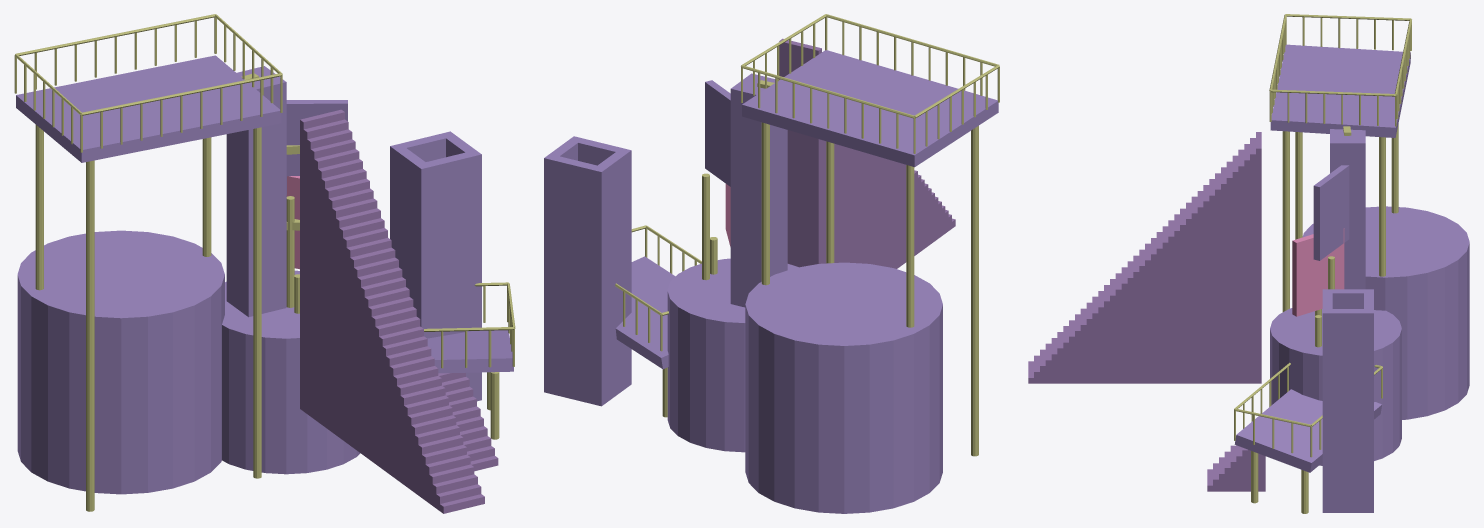
File: folie_tag_093.glb
3 views of the same model, side by side, from view 1: azimuth 30°, elevation 25°; view 2: azimuth 150°, elevation 25°; view 3: azimuth 270°, elevation 25° (orthographic). The views are drawn at different scales.
Parts seen in each view (by area): view 1: folie_tag_093_00_drum, folie_tag_093_stairs, folie_tag_093_line, folie_tag_093_04_tower, folie_tag_093_02_plate, folie_tag_093_01_drum, folie_tag_093_core, folie_tag_093_03_plate, folie_tag_093_05_panel, folie_tag_093_06_panel; view 2: folie_tag_093_00_drum, folie_tag_093_04_tower, folie_tag_093_stairs, folie_tag_093_02_plate, folie_tag_093_line, folie_tag_093_01_drum, folie_tag_093_core, folie_tag_093_03_plate, folie_tag_093_05_panel; view 3: folie_tag_093_stairs, folie_tag_093_00_drum, folie_tag_093_04_tower, folie_tag_093_02_plate, folie_tag_093_line, folie_tag_093_01_drum, folie_tag_093_03_plate, folie_tag_093_core, folie_tag_093_05_panel, folie_tag_093_06_panel.
Part boxes in pixels (box(x1,y1,x2,y2)): folie_tag_093_00_drum: box(17, 230, 224, 494); folie_tag_093_stairs: box(300, 109, 498, 513); folie_tag_093_line: box(14, 14, 515, 511); folie_tag_093_04_tower: box(390, 131, 481, 401); folie_tag_093_02_plate: box(16, 55, 281, 162); folie_tag_093_01_drum: box(222, 270, 360, 474); folie_tag_093_core: box(226, 66, 286, 317); folie_tag_093_03_plate: box(427, 330, 513, 373); folie_tag_093_05_panel: box(286, 100, 347, 194); folie_tag_093_06_panel: box(286, 176, 299, 269); folie_tag_093_00_drum: box(745, 262, 942, 513); folie_tag_093_04_tower: box(544, 136, 631, 406); folie_tag_093_stairs: box(779, 38, 955, 268); folie_tag_093_02_plate: box(742, 50, 998, 167); folie_tag_093_line: box(615, 14, 999, 456); folie_tag_093_01_drum: box(667, 258, 798, 452); folie_tag_093_core: box(730, 73, 787, 307); folie_tag_093_03_plate: box(615, 256, 675, 369); folie_tag_093_05_panel: box(705, 80, 730, 186); folie_tag_093_stairs: box(1028, 132, 1265, 491); folie_tag_093_00_drum: box(1302, 206, 1469, 419); folie_tag_093_04_tower: box(1322, 289, 1373, 512); folie_tag_093_02_plate: box(1270, 44, 1410, 137); folie_tag_093_line: box(1234, 14, 1411, 513); folie_tag_093_01_drum: box(1270, 308, 1401, 465); folie_tag_093_03_plate: box(1234, 389, 1382, 472); folie_tag_093_core: box(1330, 129, 1365, 289); folie_tag_093_05_panel: box(1313, 165, 1349, 260); folie_tag_093_06_panel: box(1292, 228, 1344, 316).
Size of the model in its own units: 12.88 by 11.26 by 13.61.
